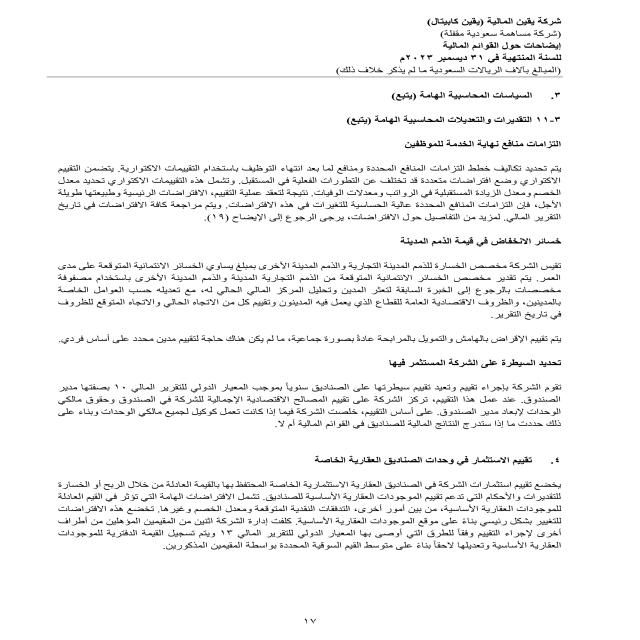notes: (426, 42, 565, 51)
text: (34, 88, 571, 568)
